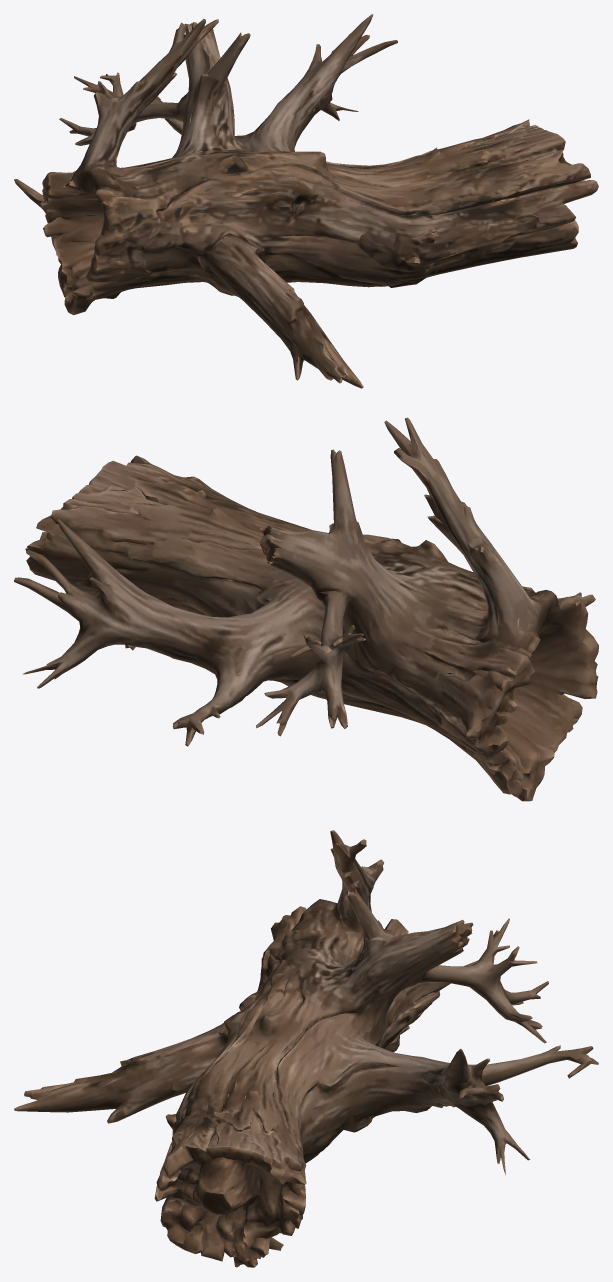
The model's file is LogRoots.glb.
The picture shows the model from 3 angles, top to bottom: view 1: azimuth 30°, elevation 25°; view 2: azimuth 150°, elevation 25°; view 3: azimuth 270°, elevation 25°; orthographic projection. The views are drawn at different scales.
Parts seen in each view (by area): view 1: LogRoots; view 2: LogRoots; view 3: LogRoots.
Boxes of the visible parts, left/top/right/bottom form: LogRoots: left=14, top=14, right=598, bottom=388; LogRoots: left=14, top=417, right=598, bottom=801; LogRoots: left=14, top=830, right=598, bottom=1267.
Size of the model in its own units: 3.3 by 1.87 by 3.36.
1 material, 1 textured.
